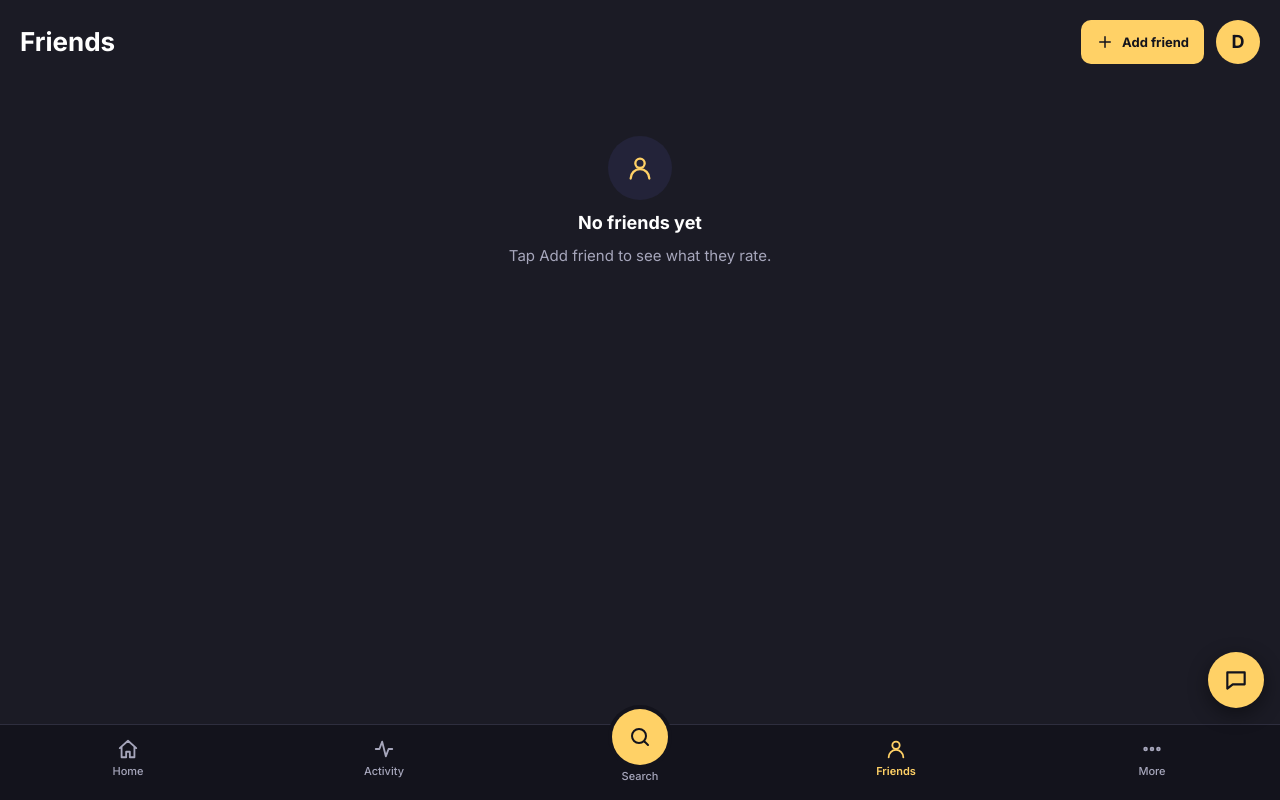
Scenario: Add friend sheet › typing "re" lists @ren with Add → POST requests, and the row shows "Requested"
Step 1. Click the button "Add friend" → (1142, 42), box x1=1081 y1=20 x2=1204 y2=64
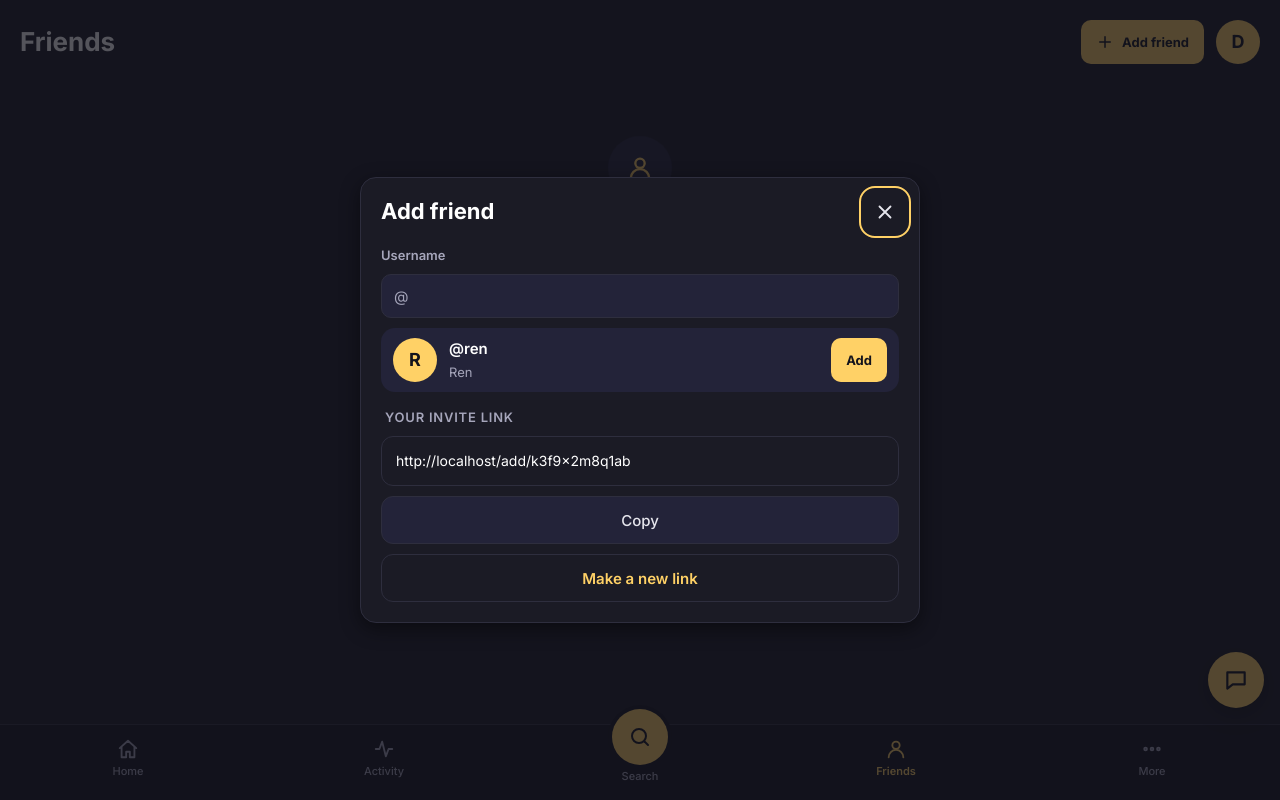
Step 2. Type "re" into the field labelled "Username" → (648, 296), box x1=410 y1=275 x2=886 y2=317
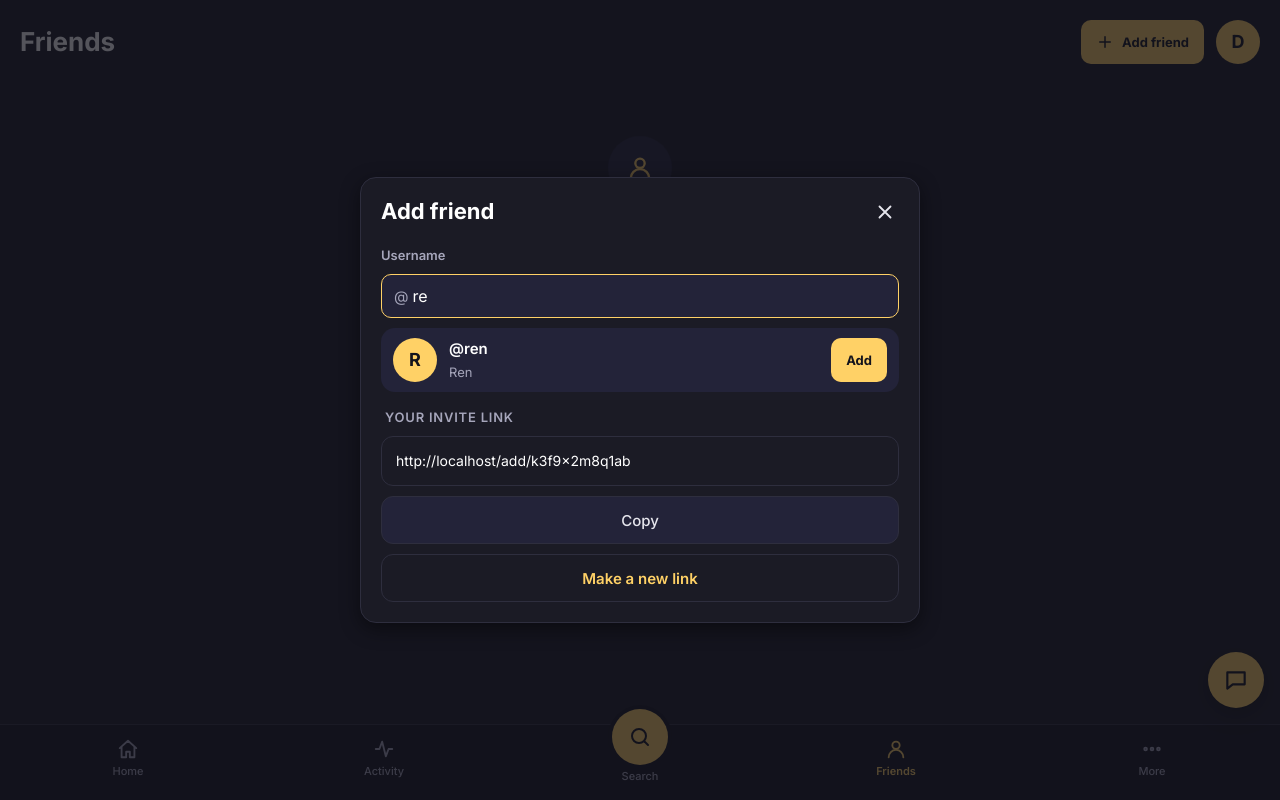
Step 3. Click the button with aria-label "Add @ren" → (859, 360), box x1=831 y1=338 x2=887 y2=382
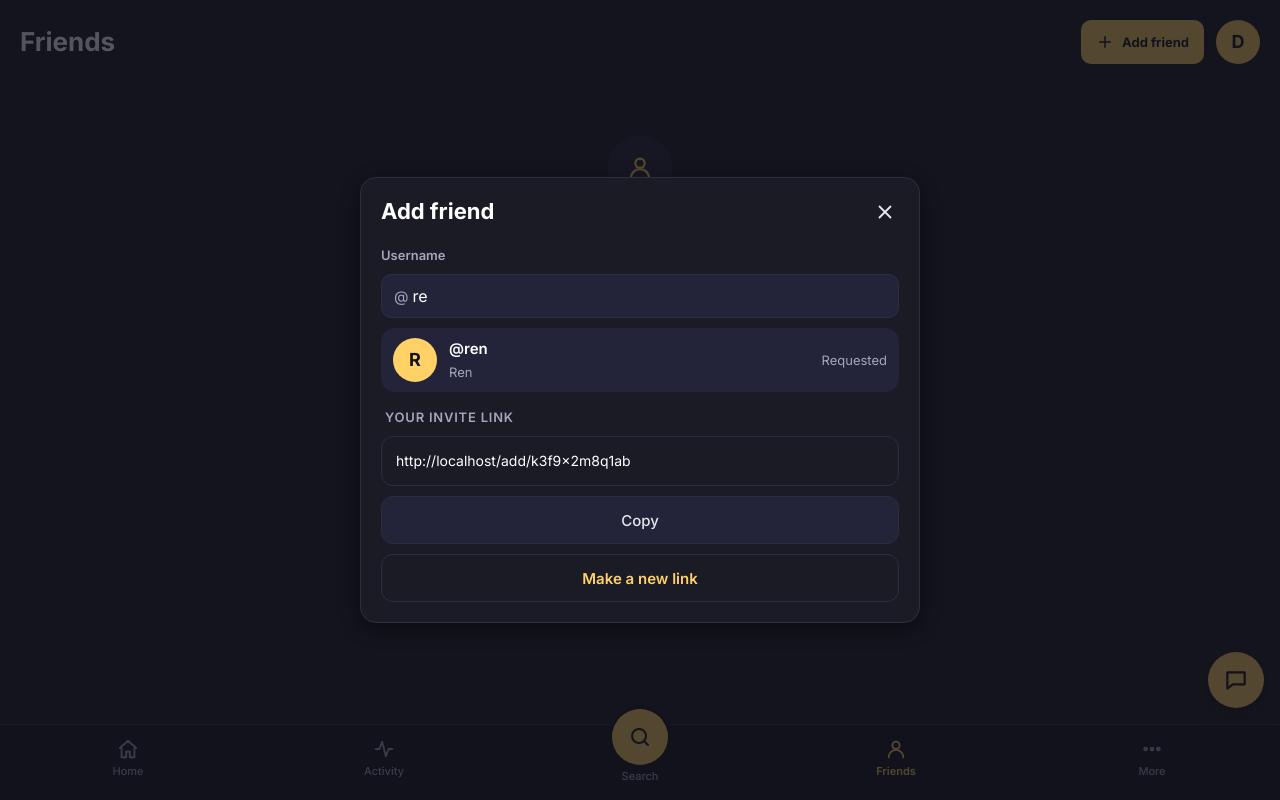
Expected: the text "Requested" is shown, x1=822 y1=351 x2=887 y2=369
